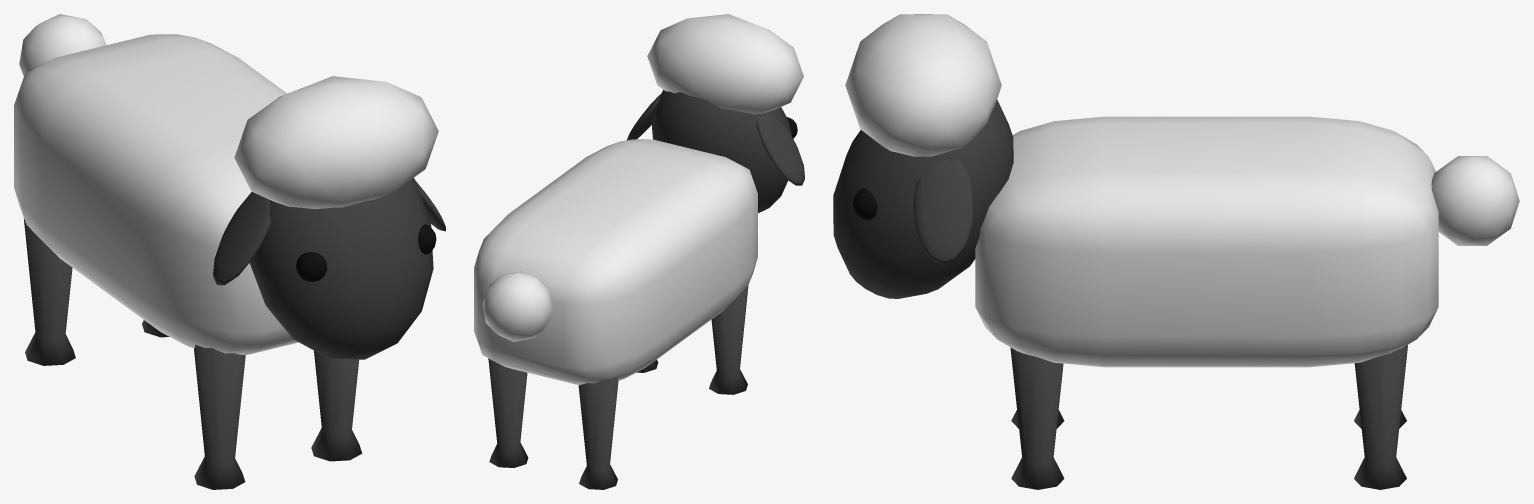
Rendered from Sheep with out wool.fbx.
3 views of the same model, side by side, from view 1: azimuth 30°, elevation 25°; view 2: azimuth 150°, elevation 25°; view 3: azimuth 270°, elevation 25° (orthographic). The views are drawn at different scales.
Visible parts, largest first — view 1: USI.009 ship bwez; view 2: USI.009 ship bwez; view 3: USI.009 ship bwez.
Part boxes in pixels (x1,y1,x2,y2): USI.009 ship bwez: [14, 14, 445, 489]; USI.009 ship bwez: [474, 14, 804, 489]; USI.009 ship bwez: [833, 14, 1519, 489].
Bounding box in the file's own units: 92.49 × 165 × 241.
Materials: 1 (1 with a texture image).
